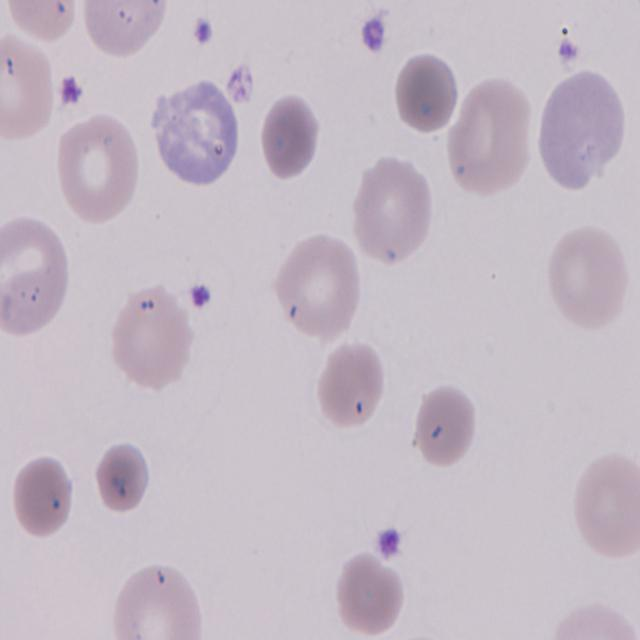RBC: (445, 75, 541, 199), (56, 108, 146, 224), (274, 230, 362, 344), (350, 153, 436, 267), (543, 220, 629, 334), (0, 210, 74, 338), (108, 283, 195, 390), (328, 549, 416, 634), (110, 564, 208, 639), (572, 451, 640, 559), (1, 27, 59, 149), (75, 1, 182, 66), (317, 338, 390, 433), (536, 600, 639, 640), (3, 0, 85, 46)
Spherocyte: (7, 447, 80, 546), (410, 382, 480, 469), (256, 90, 320, 183), (397, 49, 462, 138), (98, 444, 150, 511)
WBC: (535, 67, 626, 227)
